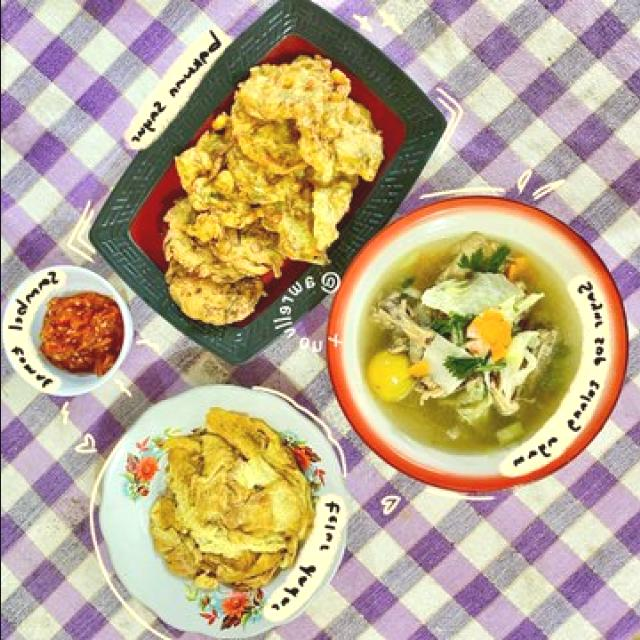sop: (366, 233, 580, 455)
